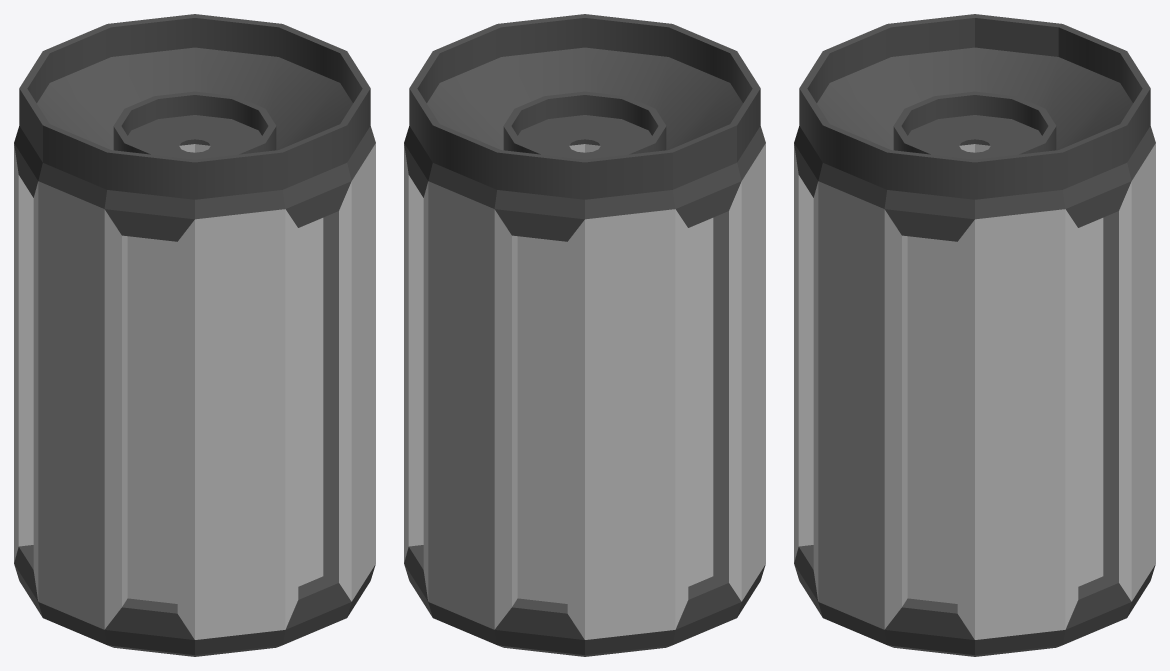
The model's file is energy_tank_02.fbx.
3 renders of one model, left to right at view 1: azimuth 30°, elevation 25°; view 2: azimuth 150°, elevation 25°; view 3: azimuth 270°, elevation 25°, orthographic.
Visible parts, largest first — view 1: energy_tank_02; view 2: energy_tank_02; view 3: energy_tank_02.
Boxes of the visible parts, x1=… form: energy_tank_02: x1=14, y1=14, x2=375, y2=656; energy_tank_02: x1=404, y1=14, x2=765, y2=656; energy_tank_02: x1=794, y1=14, x2=1155, y2=656.
Bounding box in the file's own units: 52.56 × 80.11 × 52.56.
